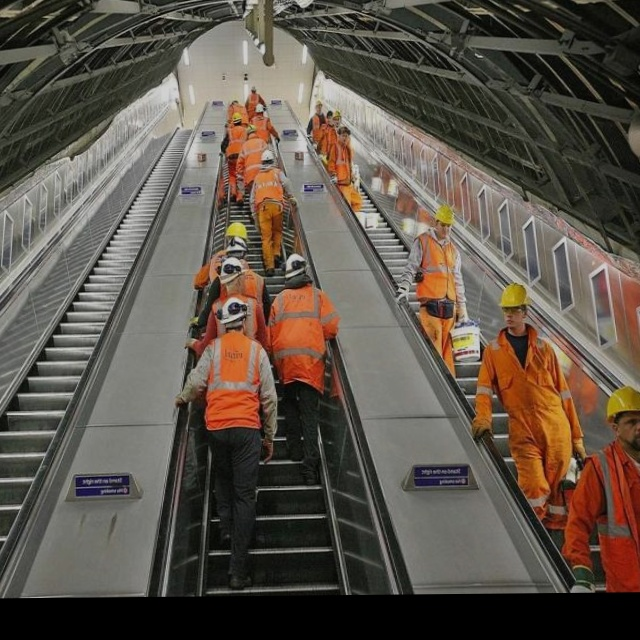Con_Casco: (607, 387, 640, 448), (498, 283, 530, 328), (281, 253, 307, 283), (436, 204, 455, 233), (260, 148, 275, 165)
Con_Chaleco: (489, 334, 559, 427), (202, 336, 263, 427), (273, 288, 322, 379), (418, 234, 460, 300)
